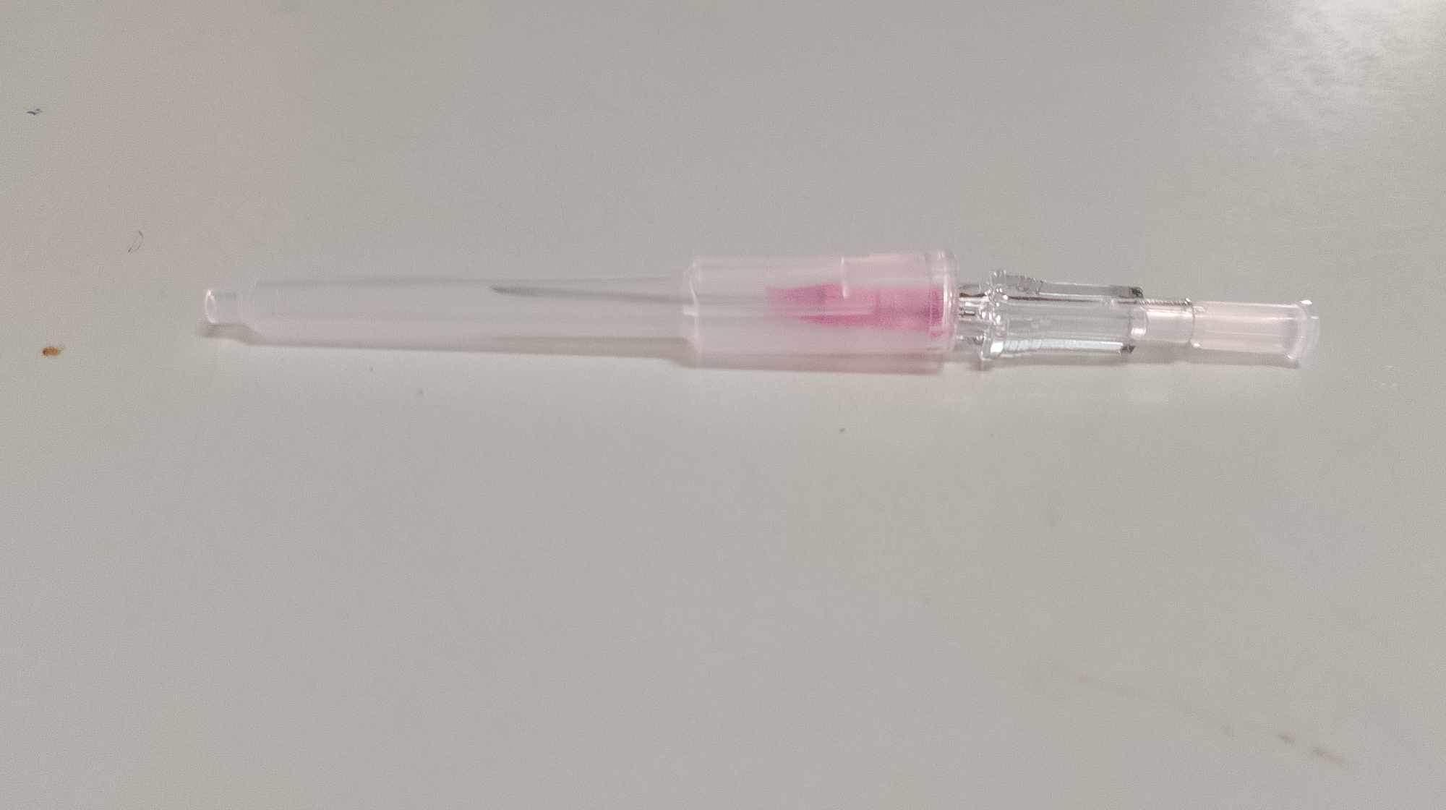Sharps: (200, 247, 1320, 373)
